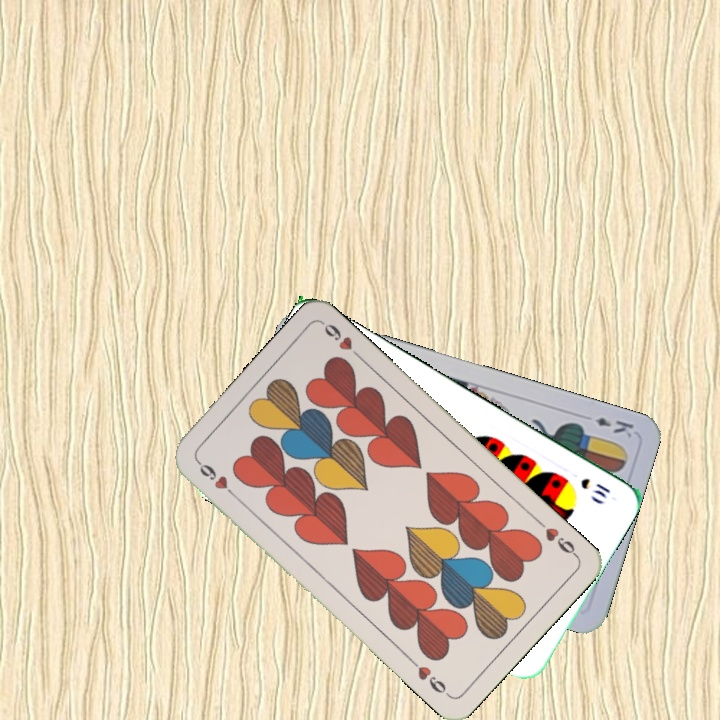EK: (591, 413, 636, 441)
H9: (193, 456, 240, 502), (533, 515, 580, 560)
S10: (576, 474, 614, 501)
